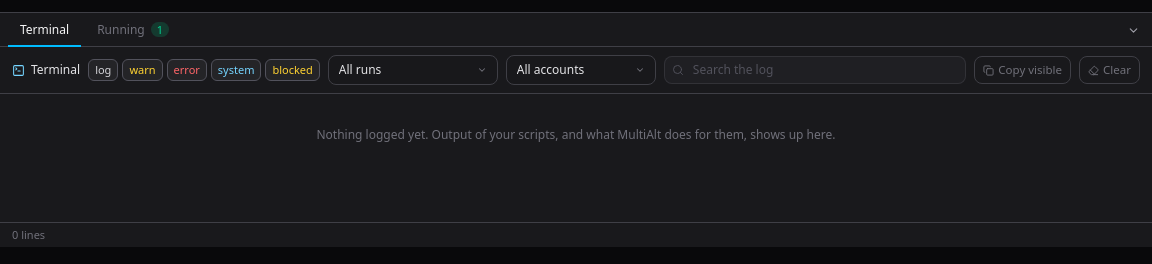
BottomPanel › shows the terminal first and the running scripts on the other tab, with the count
Click the tab "Running1": [133, 31] box [85, 15, 181, 47]
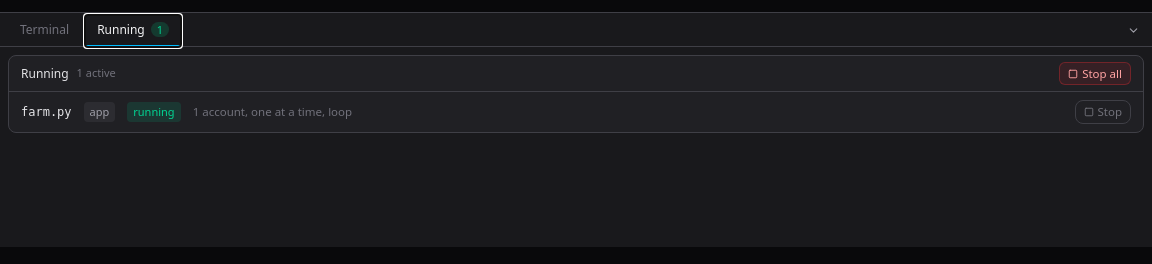
Expected: the element "Running" is shown, [8, 55, 1144, 132]
